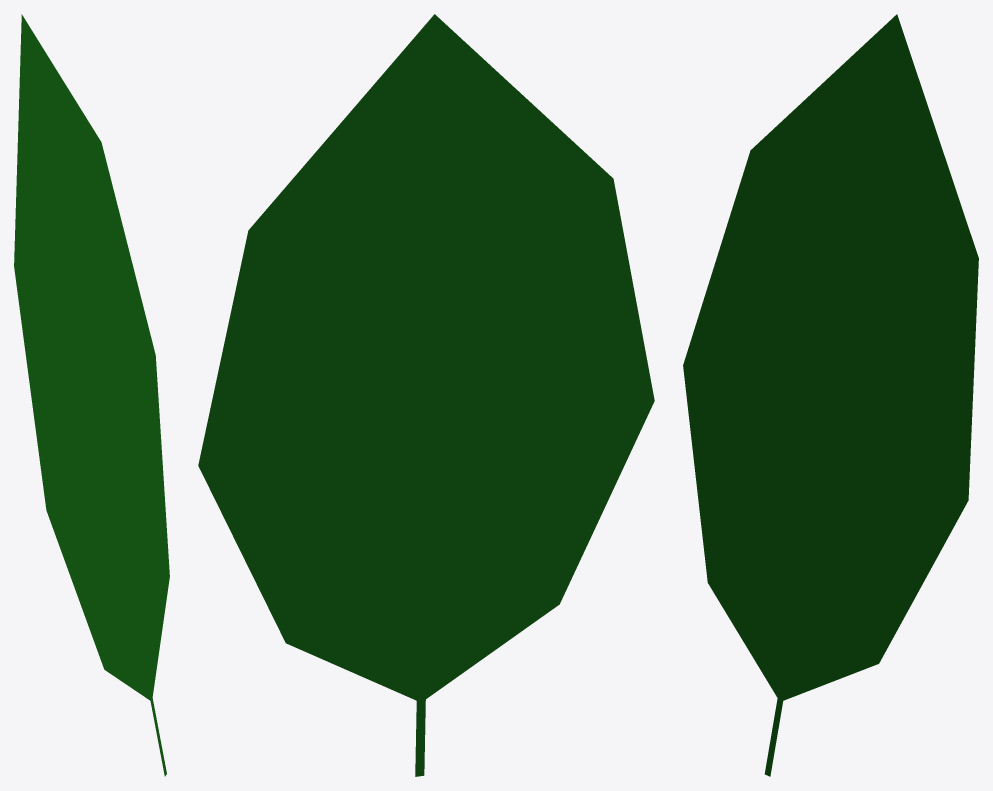
The model's file is Leaves.001.obj.
3 views of the same model, side by side, from view 1: azimuth 30°, elevation 25°; view 2: azimuth 150°, elevation 25°; view 3: azimuth 270°, elevation 25° (orthographic). The views are drawn at different scales.
Visible parts, largest first — view 1: Leaves.001_leaves.001; view 2: Leaves.001_leaves.001; view 3: Leaves.001_leaves.001.
Part boxes in pixels (<box>): Leaves.001_leaves.001: <box>14,14,169,776</box>; Leaves.001_leaves.001: <box>198,14,654,776</box>; Leaves.001_leaves.001: <box>683,14,978,776</box>.
Bounding box in the file's own units: 0.0534 × 0.1472 × 0.0545.
